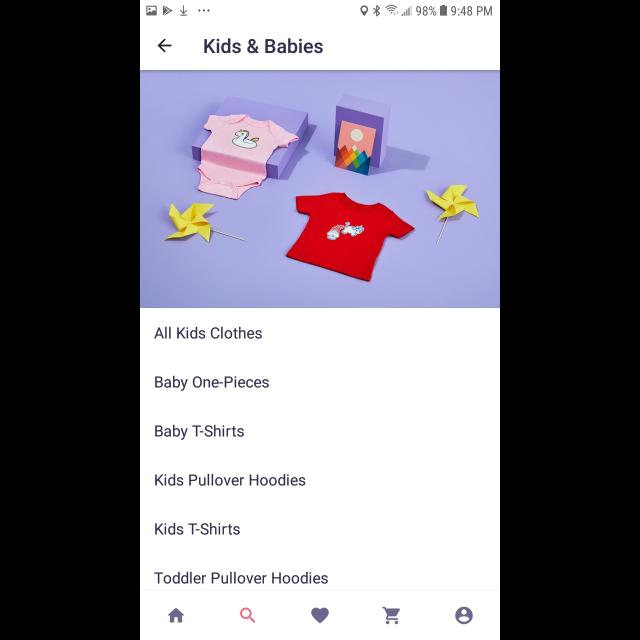icon: (455, 607, 473, 625), (382, 607, 400, 625), (311, 607, 329, 623), (240, 607, 256, 623), (168, 608, 185, 622), (158, 39, 172, 53)
image: (140, 71, 500, 309)
text: (155, 572, 329, 584), (204, 38, 324, 54), (154, 474, 306, 486), (155, 376, 269, 392), (156, 424, 244, 440), (154, 326, 262, 339), (156, 522, 240, 536)
uppertaskbar: (140, 1, 500, 18)
